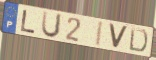2: (64, 17, 82, 43)
D: (128, 26, 149, 54)
I: (94, 20, 105, 49)
L: (19, 9, 37, 35)
U: (40, 10, 64, 40)
V: (108, 22, 129, 51)
